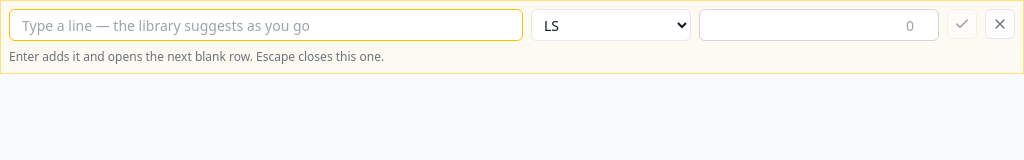
Test: when the offer to save appears › appears once the library has answered with nothing
Type "aggregate base" into the dropdown named "What is this line?" at (266, 25), box top-left (9, 9), bottom-right (523, 41)
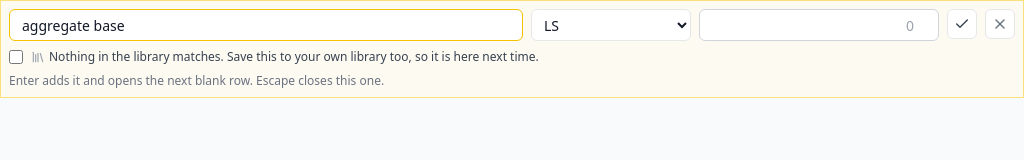
Check: the text "Nothing in the library matches" is shown, box top-left (49, 48), bottom-right (539, 65)
